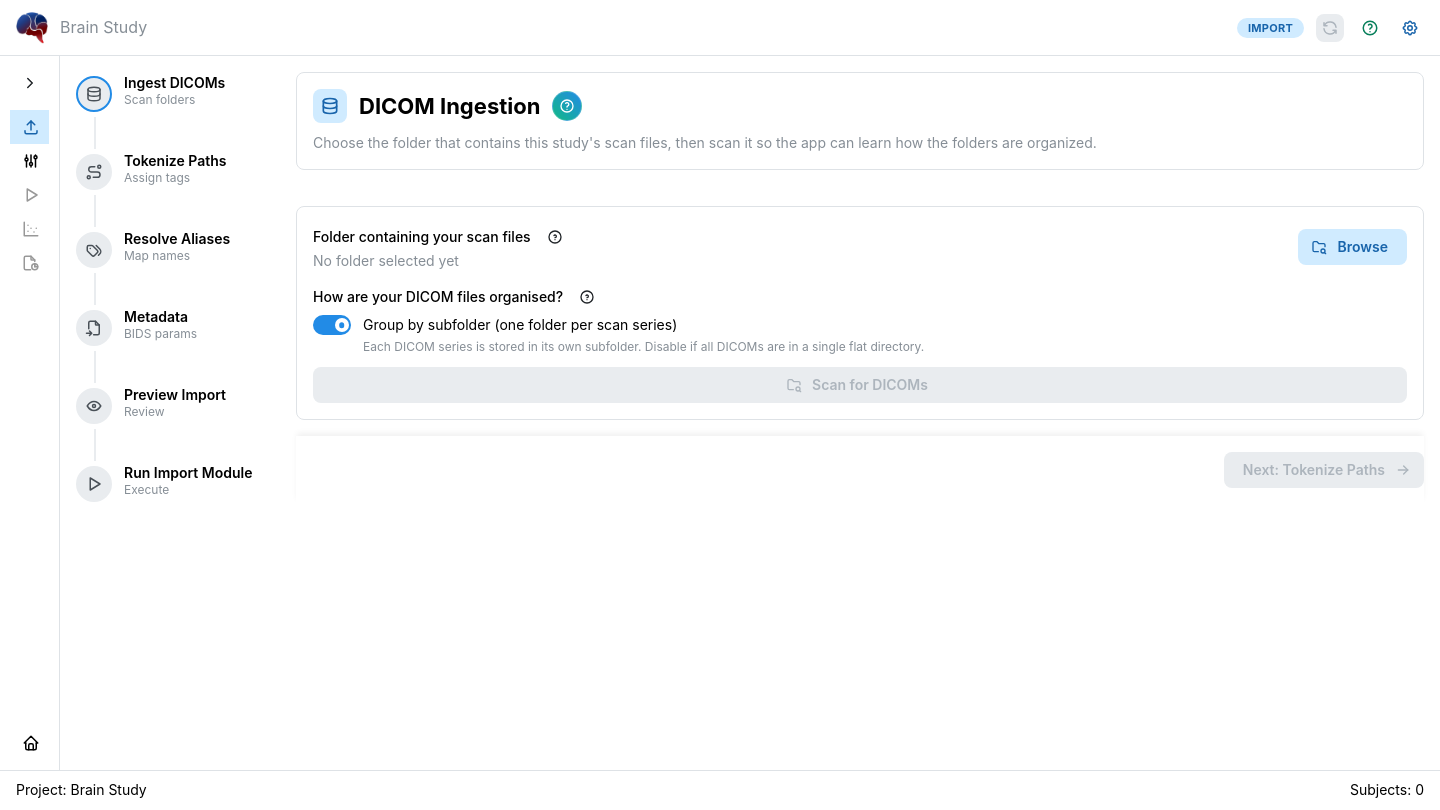
Scenario: Layout › expands navbar when toggle is clicked
The width and height of the screenshot is (1440, 810).
Click the button with test id "layout-navbar-toggle": (30,83) [12,66,46,100]
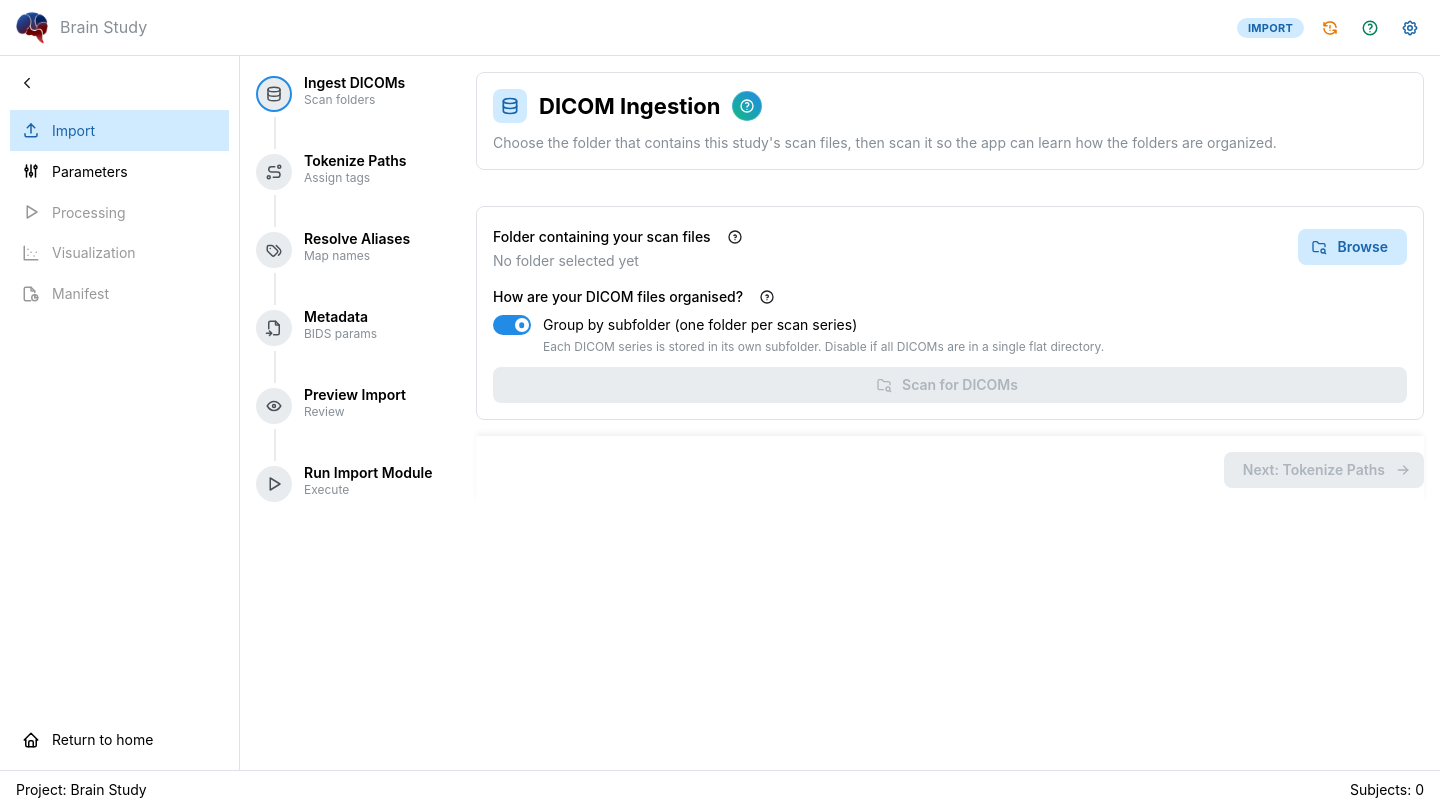
Check: the text "Import" is shown, box [52,122,95,139]
Check: the text "Parameters" is shown, box [52,163,128,180]
Check: the text "Processing" is shown, box [52,204,126,221]
